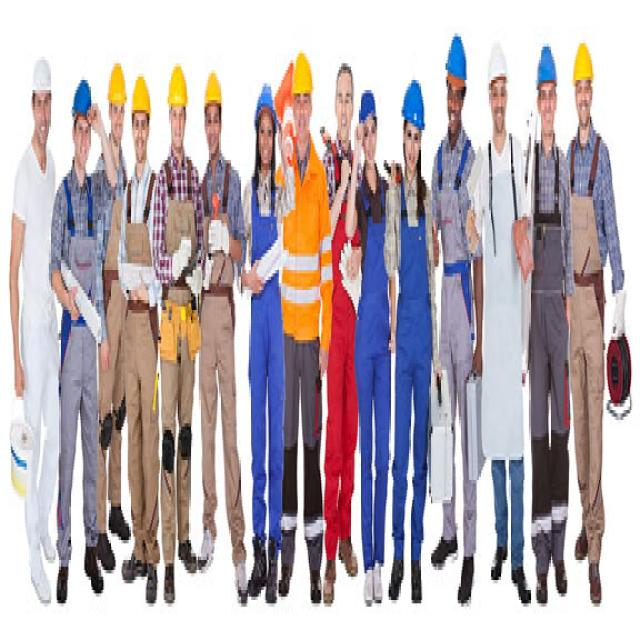Reflective-Jacket: (266, 149, 344, 348)
Safety-Helmet: (400, 73, 427, 130), (69, 70, 94, 127), (444, 30, 469, 83), (291, 43, 315, 97), (534, 40, 559, 90), (30, 47, 53, 100), (131, 67, 152, 120), (487, 34, 509, 84), (572, 36, 594, 86), (167, 60, 189, 110), (253, 74, 274, 124), (108, 56, 126, 106), (204, 67, 224, 110)
